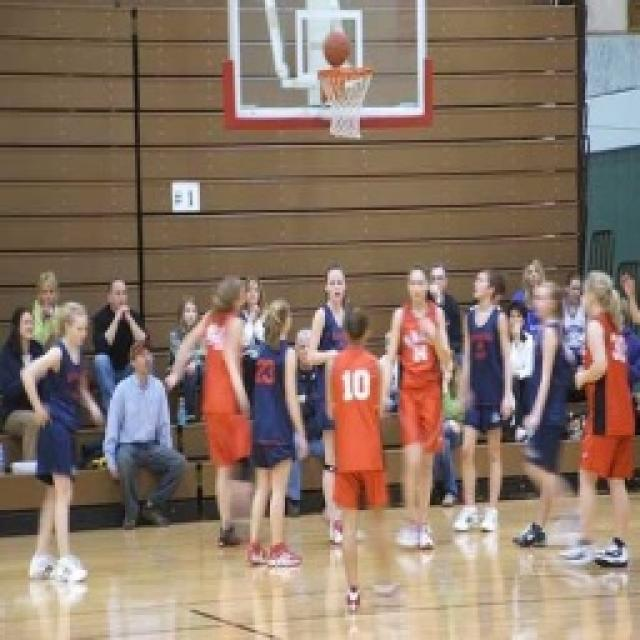rim: (323, 28, 349, 66)
